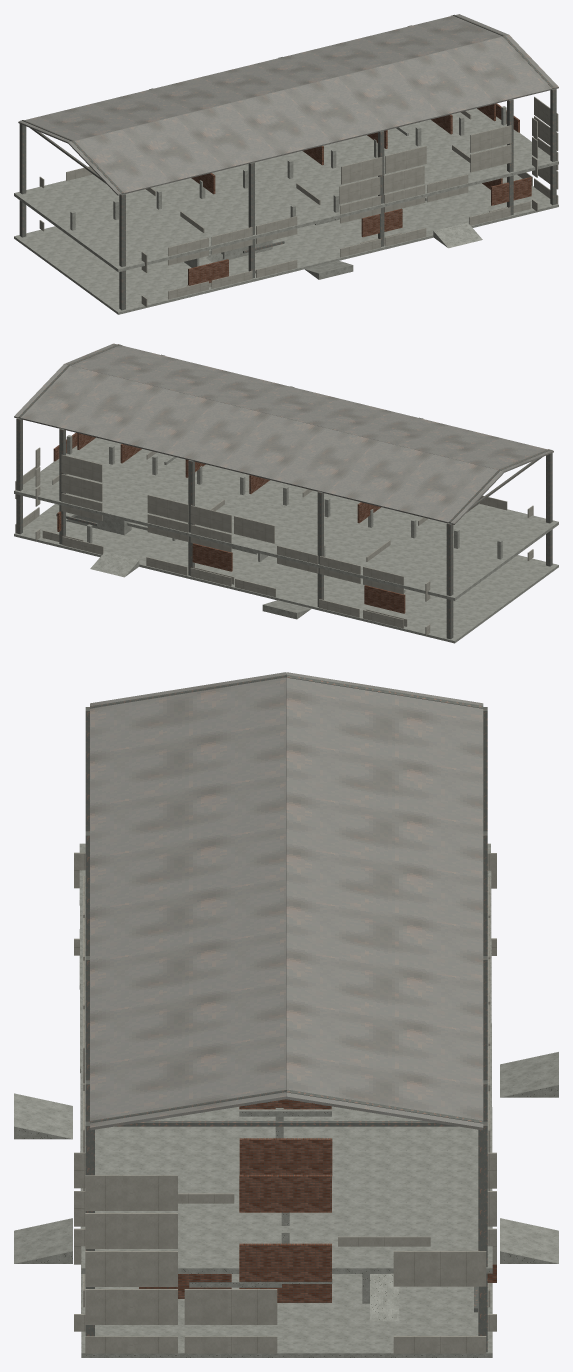
Rendered from fortress-shell-lod2.glb.
The picture shows the model from 3 angles, top to bottom: view 1: azimuth 30°, elevation 25°; view 2: azimuth 150°, elevation 25°; view 3: azimuth 270°, elevation 25°; orthographic projection. The views are drawn at different scales.
Parts seen in each view (by area): view 1: RoofPanel_C00_R00, UpperSlab_00, RoofPanel_C00_R01, GroundSlab, BATCH_FLOOR_floor_1_floor_1_cement_board_FLOOR_floor_1, BATCH_STRUCTURE_shared_ground_steel_STRUCTURE_shared, BATCH_FLOOR_ground_ground_cement_board_FLOOR_ground, BATCH_FLOOR_ground_ground_brick_FLOOR_ground, BATCH_FLOOR_floor_1_floor_1_concrete_FLOOR_floor_1, BATCH_FLOOR_ground_ground_concrete_FLOOR_ground, BATCH_FLOOR_floor_1_floor_1_brick_FLOOR_floor_1, BATCH_FLOOR_roof_roof_steel_RoofGirder_00; view 2: RoofPanel_C00_R01, UpperSlab_00, RoofPanel_C00_R00, GroundSlab, BATCH_FLOOR_floor_1_floor_1_cement_board_FLOOR_floor_1, BATCH_STRUCTURE_shared_ground_steel_STRUCTURE_shared, BATCH_FLOOR_ground_ground_cement_board_FLOOR_ground, BATCH_FLOOR_floor_1_floor_1_concrete_FLOOR_floor_1, BATCH_FLOOR_ground_ground_concrete_FLOOR_ground, BATCH_FLOOR_ground_ground_brick_FLOOR_ground, BATCH_FLOOR_floor_1_floor_1_brick_FLOOR_floor_1, BATCH_FLOOR_roof_roof_steel_RoofGirder_00; view 3: RoofPanel_C00_R01, RoofPanel_C00_R00, UpperSlab_00, BATCH_FLOOR_floor_1_floor_1_cement_board_FLOOR_floor_1, GroundSlab, BATCH_FLOOR_ground_ground_cement_board_FLOOR_ground, BATCH_FLOOR_floor_1_floor_1_brick_FLOOR_floor_1, BATCH_FLOOR_ground_ground_concrete_FLOOR_ground, BATCH_STRUCTURE_shared_ground_steel_STRUCTURE_shared, BATCH_FLOOR_roof_roof_steel_RoofGirder_10, BATCH_FLOOR_floor_1_floor_1_concrete_FLOOR_floor_1, BATCH_FLOOR_ground_ground_brick_FLOOR_ground (+1 smaller).
Boxes of the visible parts, box(x1,y1,x2,y2) form: RoofPanel_C00_R00: box(68, 35, 558, 195); UpperSlab_00: box(14, 108, 558, 272); RoofPanel_C00_R01: box(18, 14, 508, 143); GroundSlab: box(14, 174, 558, 314); BATCH_FLOOR_floor_1_floor_1_cement_board_FLOOR_floor_1: box(39, 96, 558, 272); BATCH_STRUCTURE_shared_ground_steel_STRUCTURE_shared: box(19, 14, 556, 310); BATCH_FLOOR_ground_ground_cement_board_FLOOR_ground: box(39, 166, 558, 306); BATCH_FLOOR_ground_ground_brick_FLOOR_ground: box(188, 177, 531, 285); BATCH_FLOOR_floor_1_floor_1_concrete_FLOOR_floor_1: box(70, 106, 506, 262); BATCH_FLOOR_ground_ground_concrete_FLOOR_ground: box(184, 197, 482, 279); BATCH_FLOOR_floor_1_floor_1_brick_FLOOR_floor_1: box(191, 103, 519, 194); BATCH_FLOOR_roof_roof_steel_RoofGirder_00: box(22, 120, 123, 193); RoofPanel_C00_R01: box(14, 364, 504, 524); UpperSlab_00: box(14, 437, 558, 600); RoofPanel_C00_R00: box(64, 343, 553, 472); GroundSlab: box(14, 504, 558, 643); BATCH_FLOOR_floor_1_floor_1_cement_board_FLOOR_floor_1: box(15, 447, 533, 601); BATCH_STRUCTURE_shared_ground_steel_STRUCTURE_shared: box(16, 344, 552, 639); BATCH_FLOOR_ground_ground_cement_board_FLOOR_ground: box(15, 507, 533, 635); BATCH_FLOOR_floor_1_floor_1_concrete_FLOOR_floor_1: box(66, 435, 502, 559); BATCH_FLOOR_ground_ground_concrete_FLOOR_ground: box(87, 522, 405, 619); BATCH_FLOOR_ground_ground_brick_FLOOR_ground: box(57, 511, 405, 613); BATCH_FLOOR_floor_1_floor_1_brick_FLOOR_floor_1: box(53, 432, 380, 523); BATCH_FLOOR_roof_roof_steel_RoofGirder_00: box(448, 449, 549, 522); RoofPanel_C00_R01: box(286, 672, 483, 1130); RoofPanel_C00_R00: box(90, 672, 286, 1130); UpperSlab_00: box(79, 843, 492, 1273); BATCH_FLOOR_floor_1_floor_1_cement_board_FLOOR_floor_1: box(74, 852, 496, 1286); GroundSlab: box(79, 929, 492, 1357); BATCH_FLOOR_ground_ground_cement_board_FLOOR_ground: box(74, 938, 496, 1353); BATCH_FLOOR_floor_1_floor_1_brick_FLOOR_floor_1: box(239, 1099, 332, 1281); BATCH_FLOOR_ground_ground_concrete_FLOOR_ground: box(14, 1052, 558, 1303); BATCH_STRUCTURE_shared_ground_steel_STRUCTURE_shared: box(85, 707, 487, 1352); BATCH_FLOOR_roof_roof_steel_RoofGirder_10: box(90, 1089, 483, 1126); BATCH_FLOOR_floor_1_floor_1_concrete_FLOOR_floor_1: box(239, 1108, 399, 1321); BATCH_FLOOR_ground_ground_brick_FLOOR_ground: box(139, 1264, 496, 1302).
Size of the model in its own units: 61.61 by 17.81 by 33.25.
Materials: 5 (5 with a texture image).
